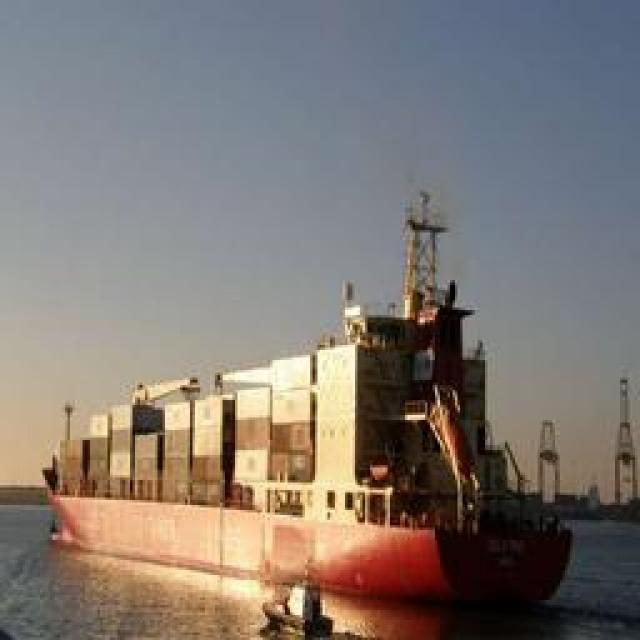CIV_Ship: (29, 186, 586, 616)
